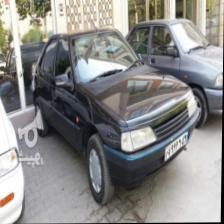plate: (164, 131, 189, 162)
